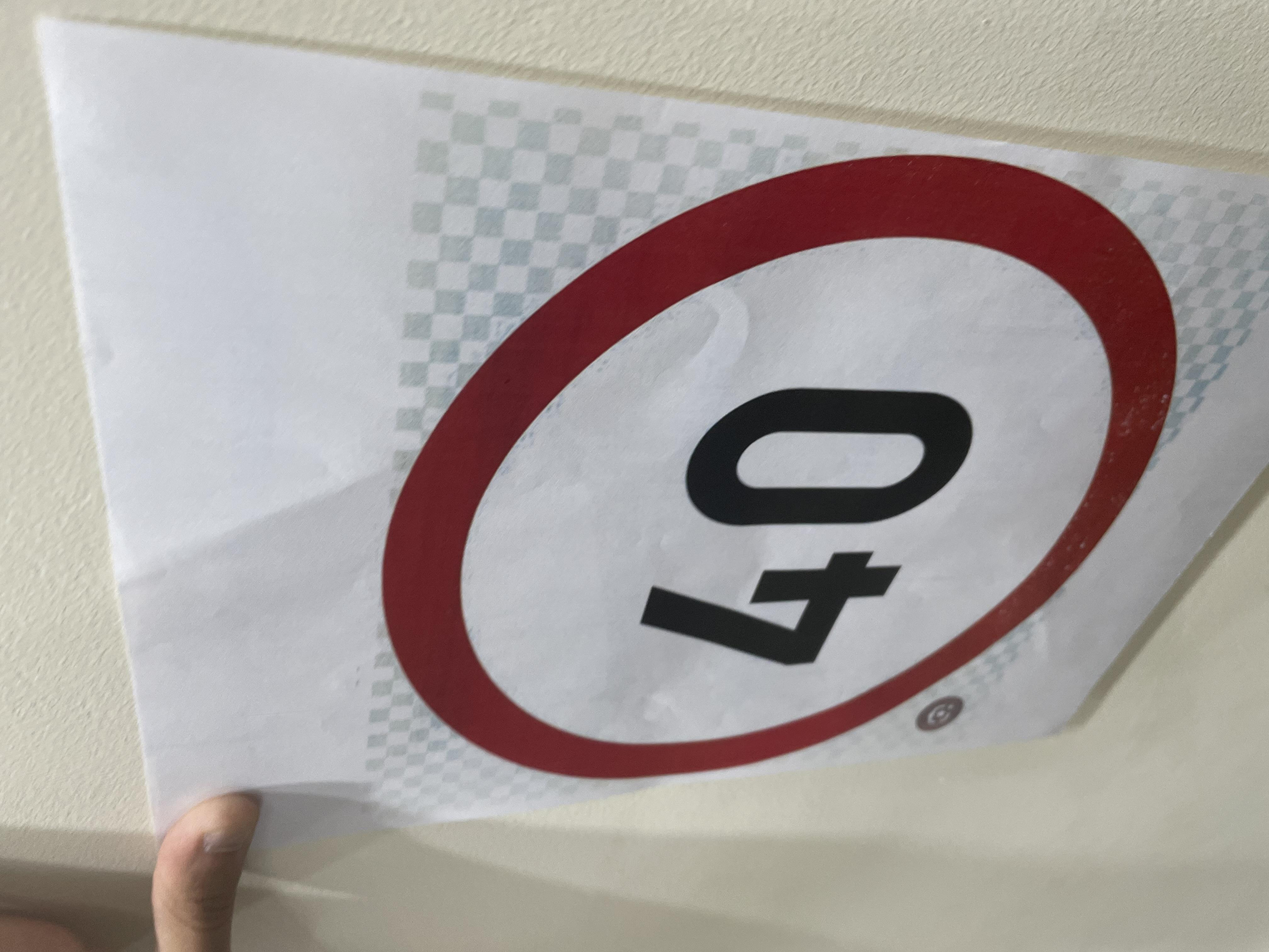40-Speed: (232, 253, 1086, 895)
